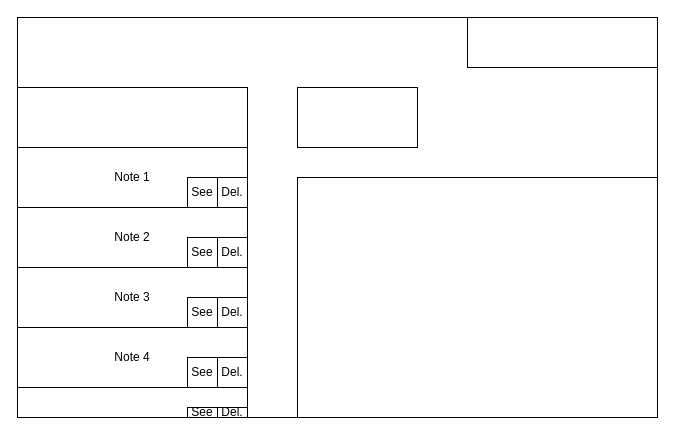
The diagram is 675 pixels wide and 437 high, and some of its shapes have lost their labels. Here are the shapes that lost their labels. From the top down, the box of each, then its label:
(466, 16, 658, 68): Sign Up/ Sign In
(16, 86, 248, 148): Write a note
(296, 86, 418, 148): Notes
(296, 176, 658, 418): Note selected being shown
(16, 386, 248, 418): Note 5
